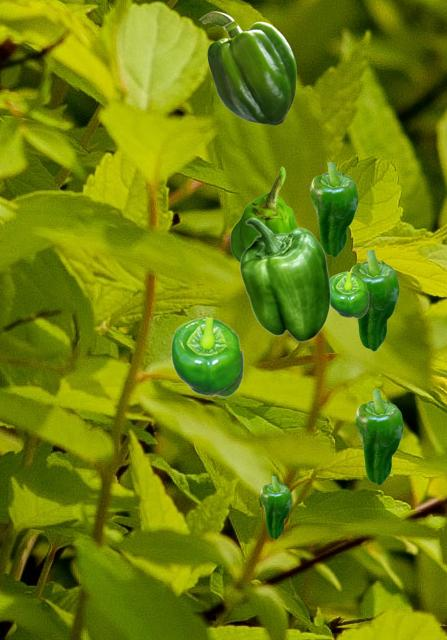bell_pepper: (239, 217, 330, 341), (199, 11, 295, 124), (230, 166, 298, 262), (170, 316, 243, 396), (350, 250, 398, 350), (310, 162, 357, 256), (355, 390, 402, 484), (260, 476, 290, 538), (330, 271, 368, 317)
